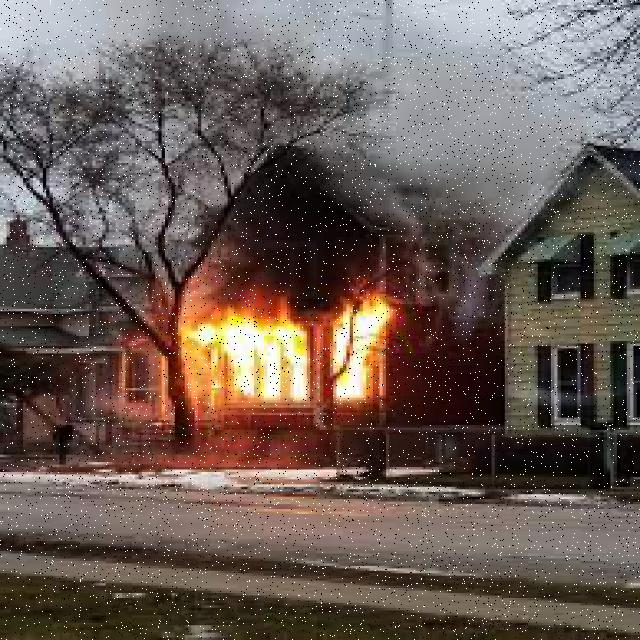fire: (188, 309, 396, 408)
smoke: (265, 100, 534, 262)
